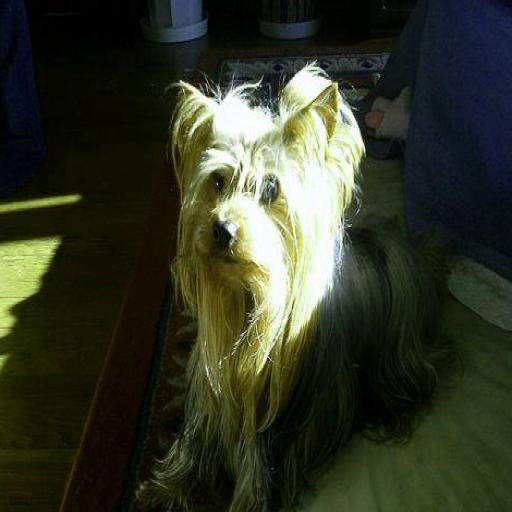dog_face: (168, 84, 339, 278)
